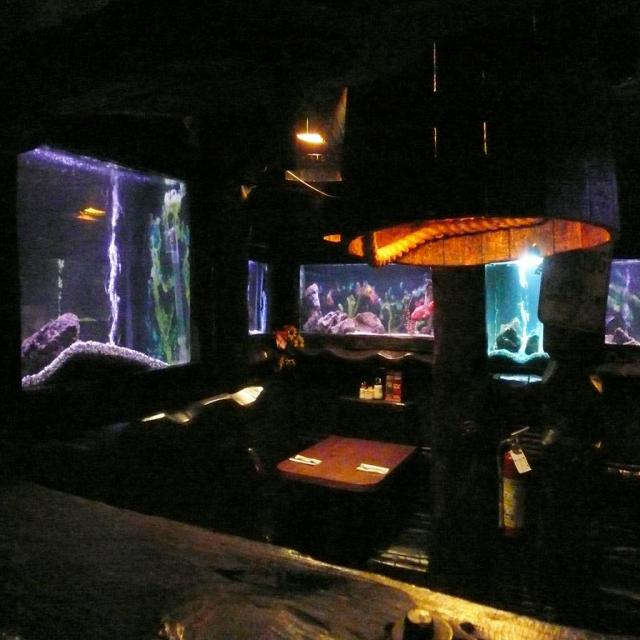table: (270, 422, 440, 520)
